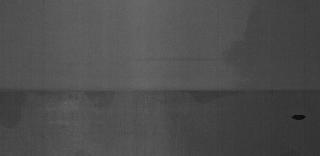punching hole: (291, 114, 307, 122)
welding line: (2, 85, 318, 95)
